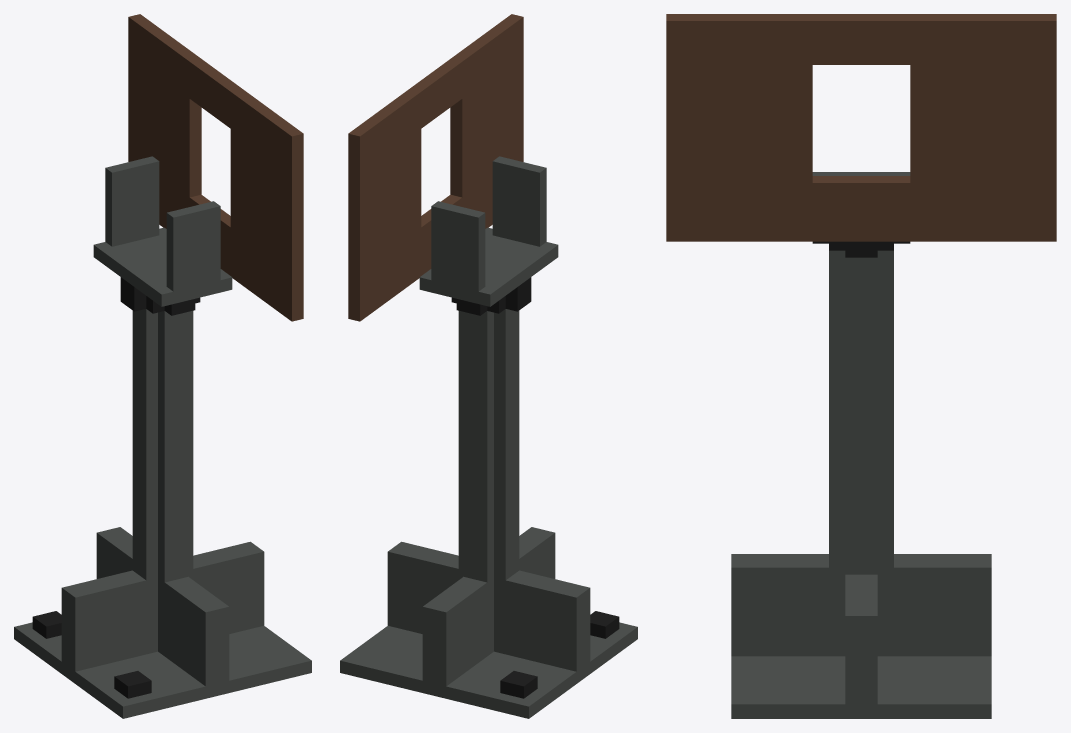
File: technical_pedestal.glb
The picture shows the model from 3 angles, left to right: view 1: azimuth 30°, elevation 25°; view 2: azimuth 150°, elevation 25°; view 3: azimuth 270°, elevation 25°; orthographic projection. The views are drawn at different scales.
Parts seen in each view (by area): view 1: body:compound; view 2: body:compound; view 3: body:compound.
Part boxes in pixels (x1,y1,x2,y2): body:compound: (14, 14, 311, 718); body:compound: (340, 14, 637, 718); body:compound: (666, 14, 1056, 718).
Bounding box in the file's own units: 0.5 × 1.44 × 0.75.
